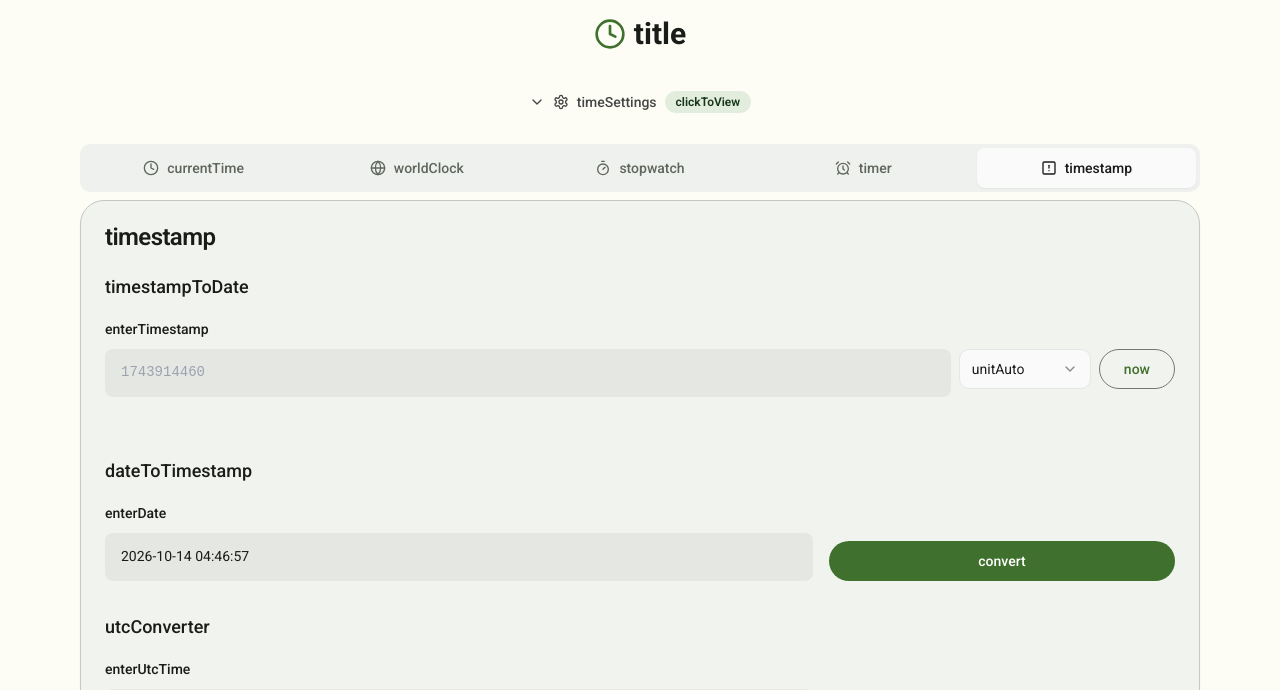
timestamp converter › explains input it cannot read instead of failing silently
Press the mouse on the tab "timestamp": [1086, 168] box [977,148,1196,188]
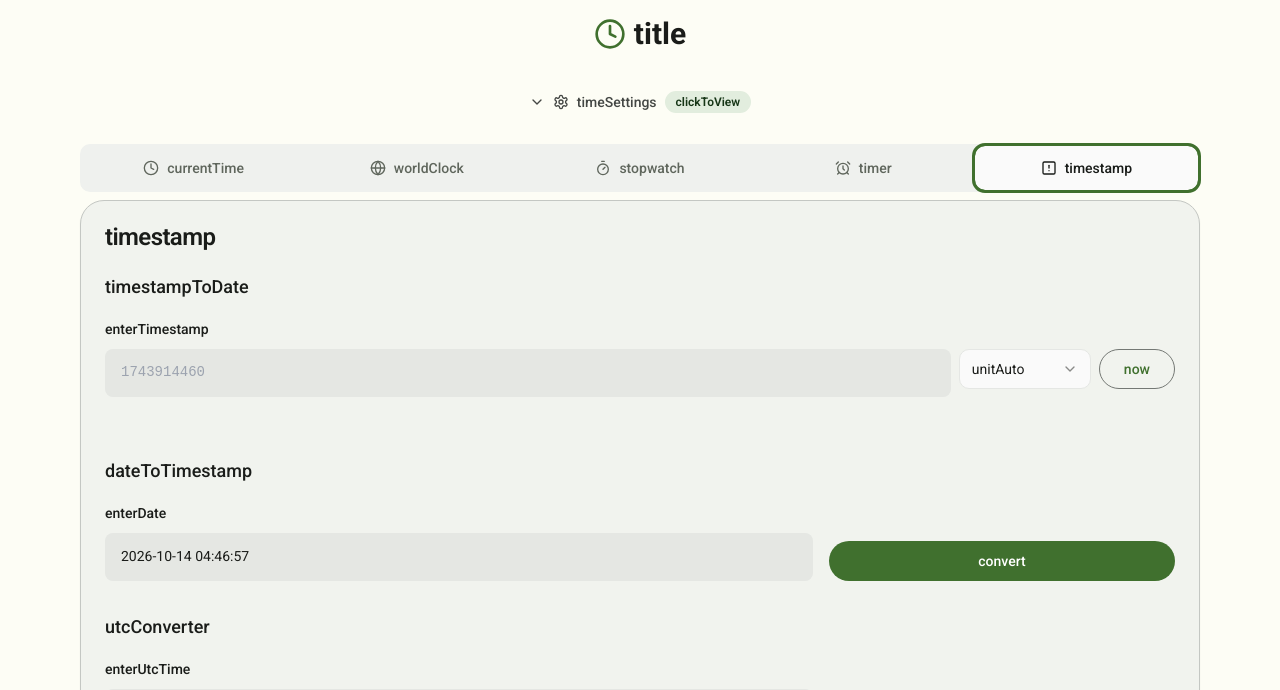
In the field labelled "enterTimestamp": [528, 373] box [105,349,951,397], type "2023-11-14"
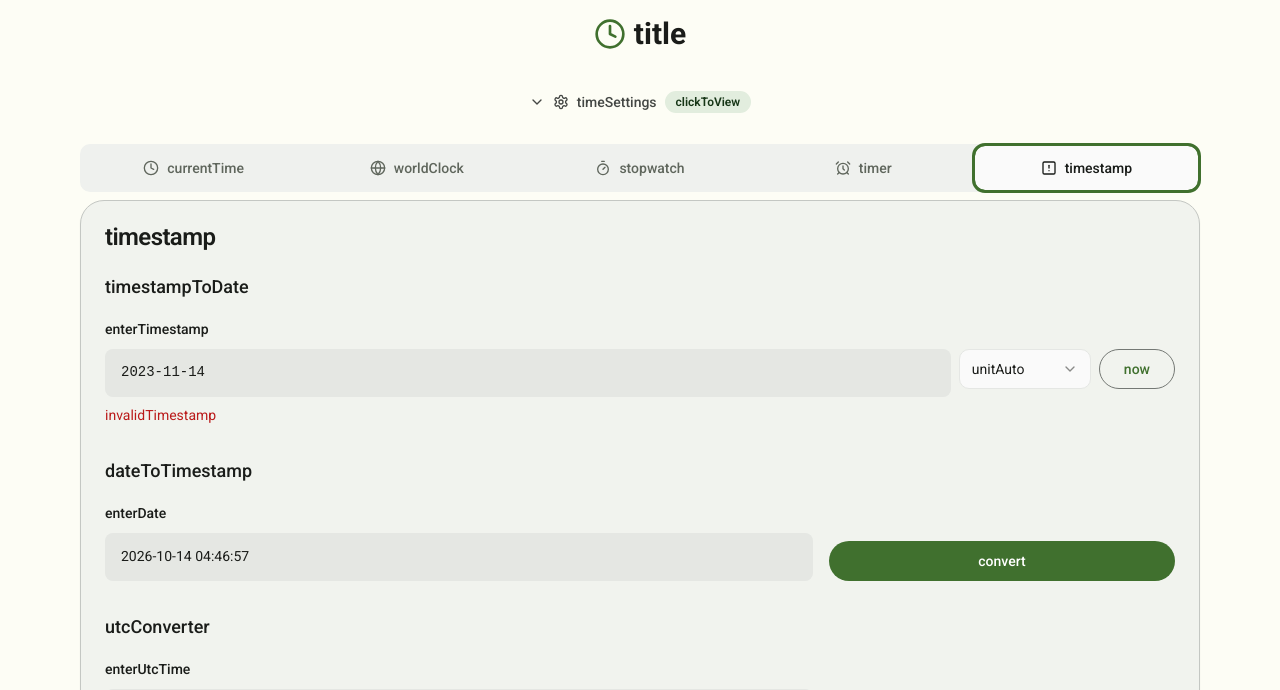
Check: the text "invalidTimestamp" is shown, box [105,407,216,423]
Replace the text in the field labelled "enterDate" with "not a date": [459, 557] box [105,533,813,581]
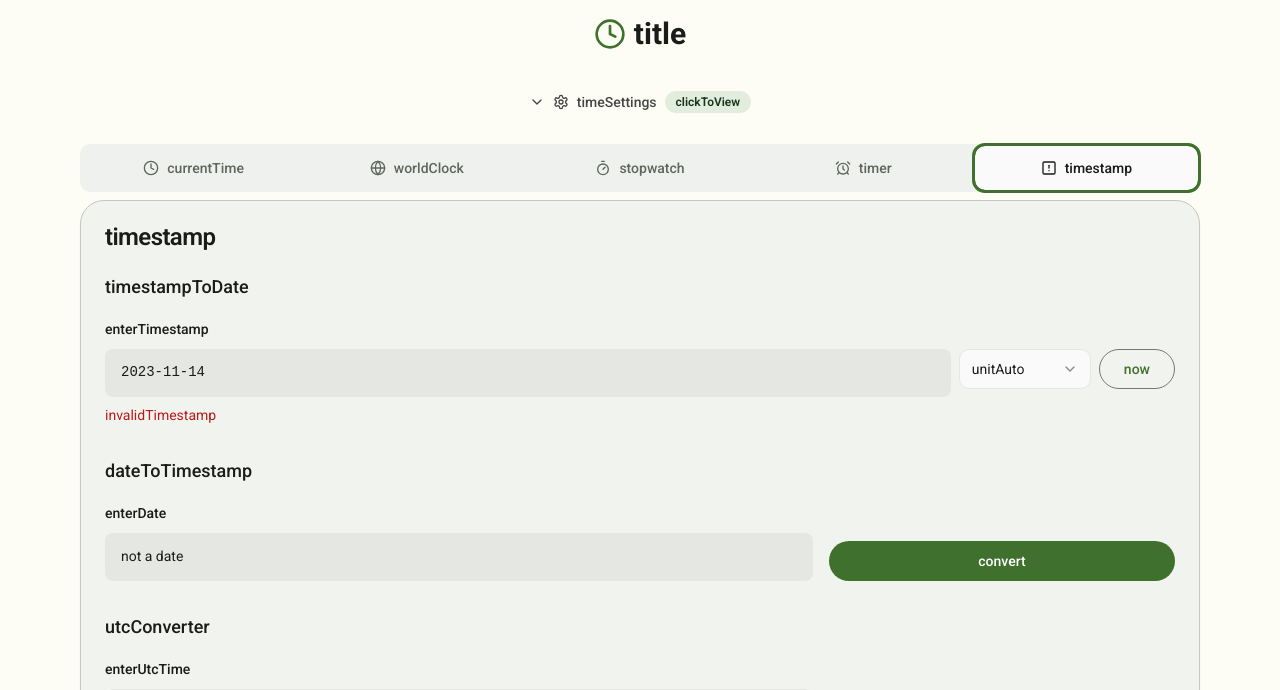
Click the button "convert": [1002, 561] box [829,541,1175,581]
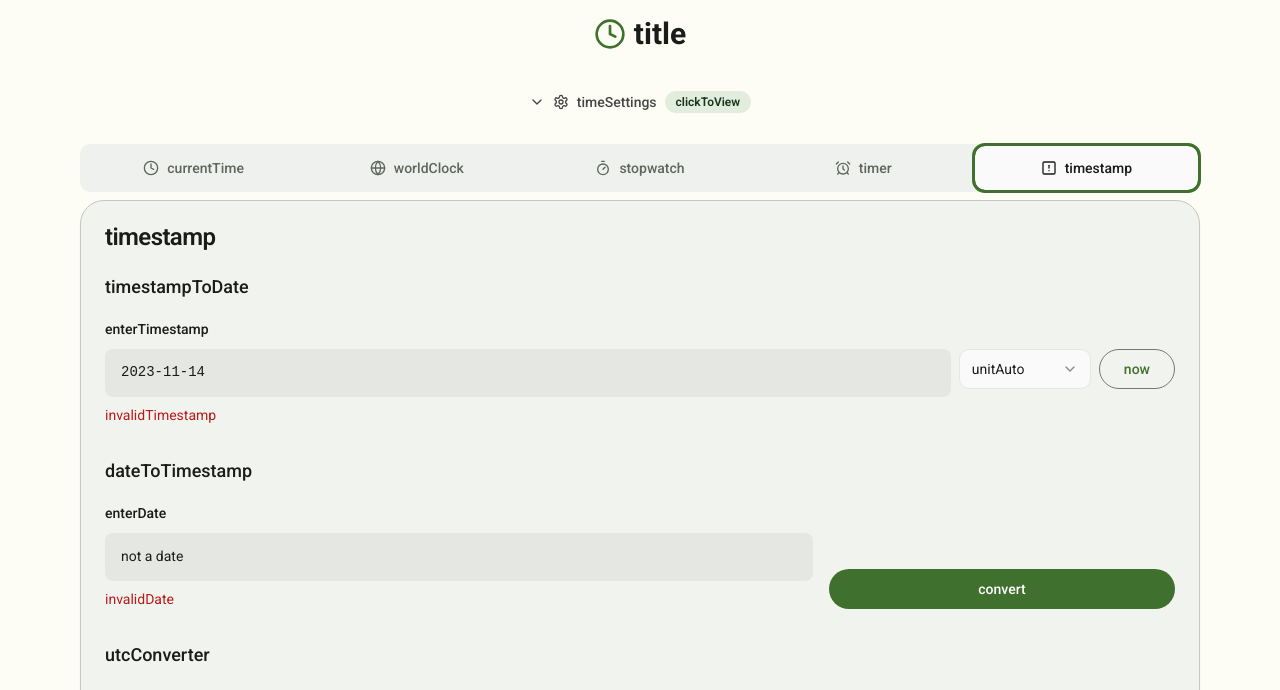
Check: the text "invalidDate" is shown, box [105,591,174,607]
